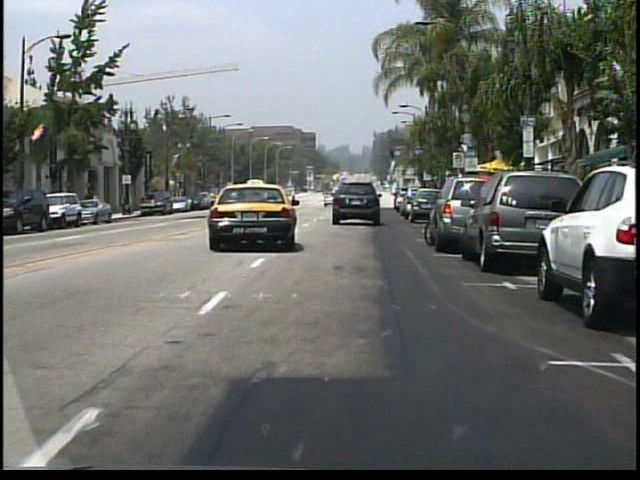person: (83, 188, 96, 217), (91, 190, 103, 216)
